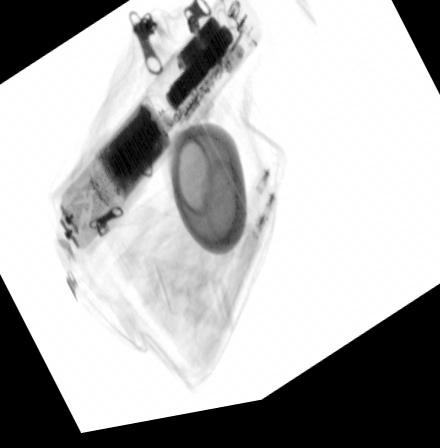Baton: (47, 0, 264, 260)
